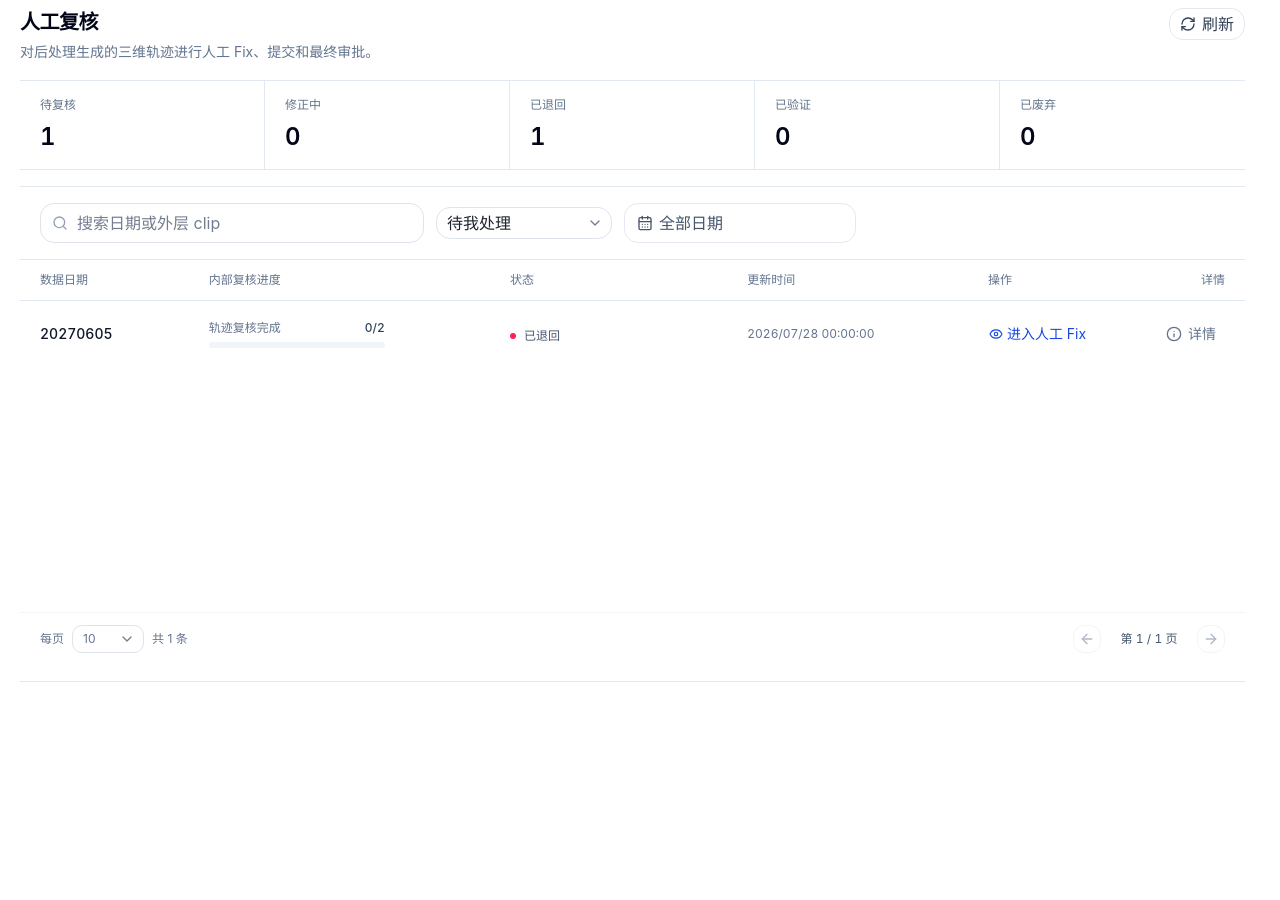
Test case: review list aggregates all clips for a date and moves clip details into the popover
Expected: the text "0/2" is shown, top-left (365, 320), bottom-right (385, 336)
Expected: the number of column headings is 6, top-left (20, 260), bottom-right (201, 300); top-left (201, 260), bottom-right (502, 300); top-left (502, 260), bottom-right (739, 300); top-left (739, 260), bottom-right (980, 300); top-left (980, 260), bottom-right (1149, 300); top-left (1149, 260), bottom-right (1245, 300)
Click the button with aria-label "查看 20270605 20260605_160904、20260605_170102 复核详情": (1191, 334) top-left (1157, 320), bottom-right (1225, 348)
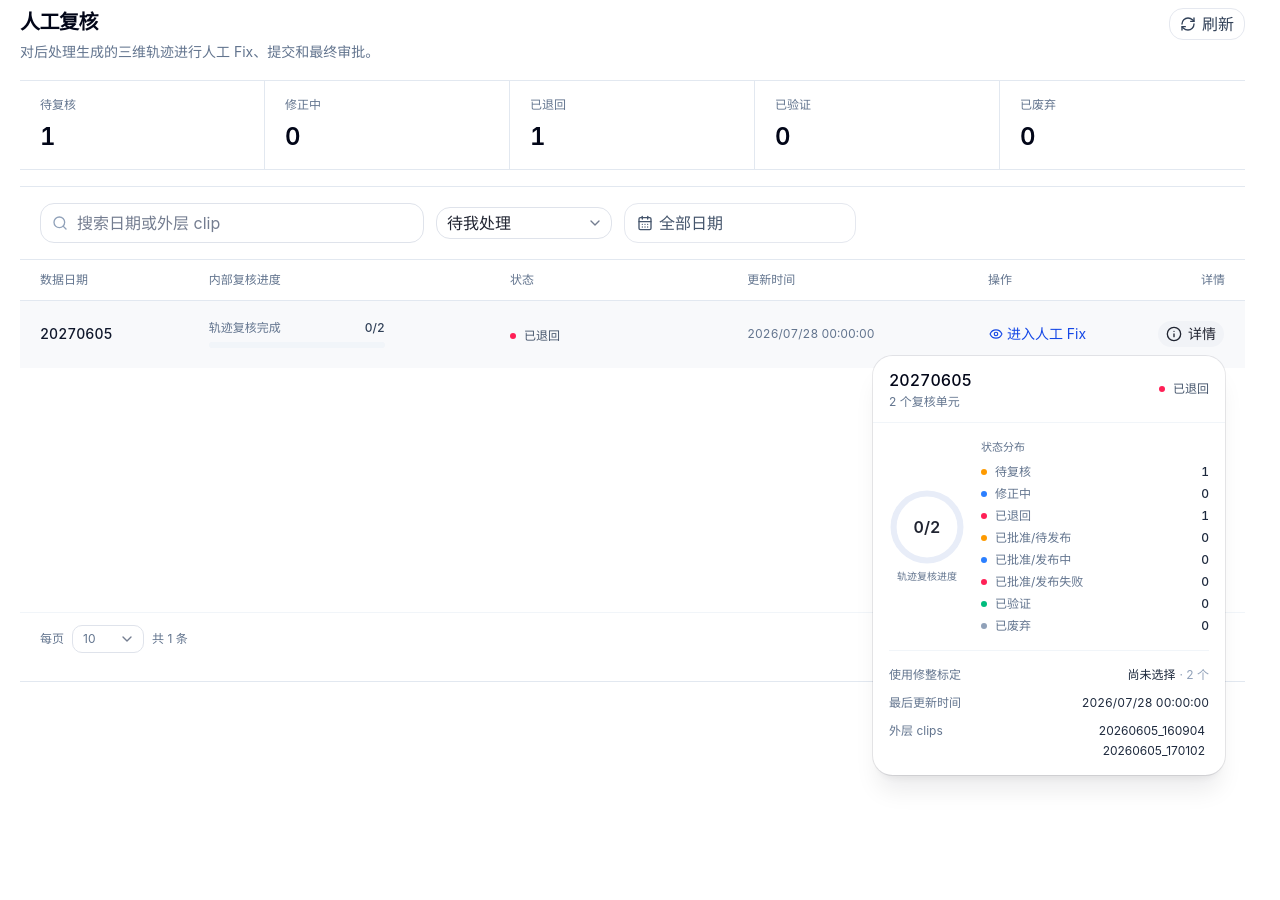
Expected: the text "2 个复核单元" is shown, top-left (889, 394), bottom-right (972, 410)
Expected: the text "20260605_160904" is shown, top-left (1099, 722), bottom-right (1205, 738)
Expected: the text "20260605_170102" is shown, top-left (1103, 742), bottom-right (1205, 758)
